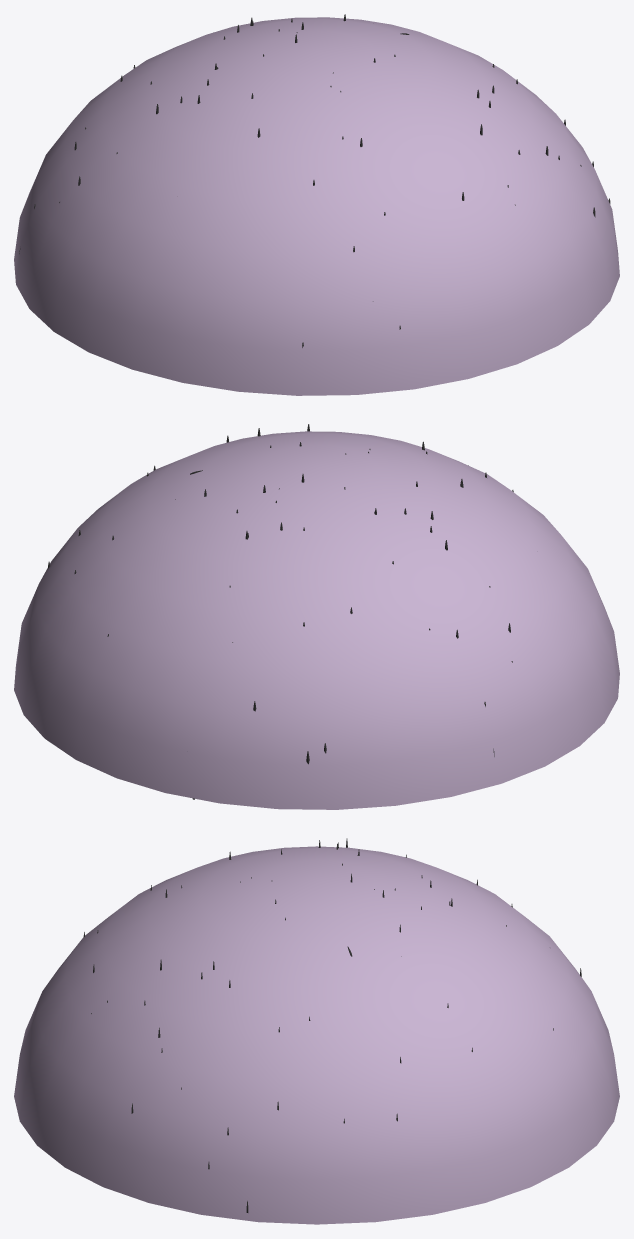
File: particule_000137.obj
The picture shows the model from 3 angles, top to bottom: view 1: azimuth 30°, elevation 25°; view 2: azimuth 150°, elevation 25°; view 3: azimuth 270°, elevation 25°; orthographic projection.
Parts seen in each view (by area): view 1: Sphère, pluie_Cube.043; view 2: Sphère, pluie_Cube.043; view 3: Sphère, pluie_Cube.043.
Part boxes in pixels (x1,y1,x2,y2): Sphère: [14, 17, 619, 395]; pluie_Cube.043: [19, 14, 610, 347]; Sphère: [14, 431, 619, 809]; pluie_Cube.043: [47, 424, 513, 799]; Sphère: [14, 846, 619, 1224]; pluie_Cube.043: [83, 838, 581, 1212].
Bounding box in the file's own units: 63430 × 26027 × 63430.
